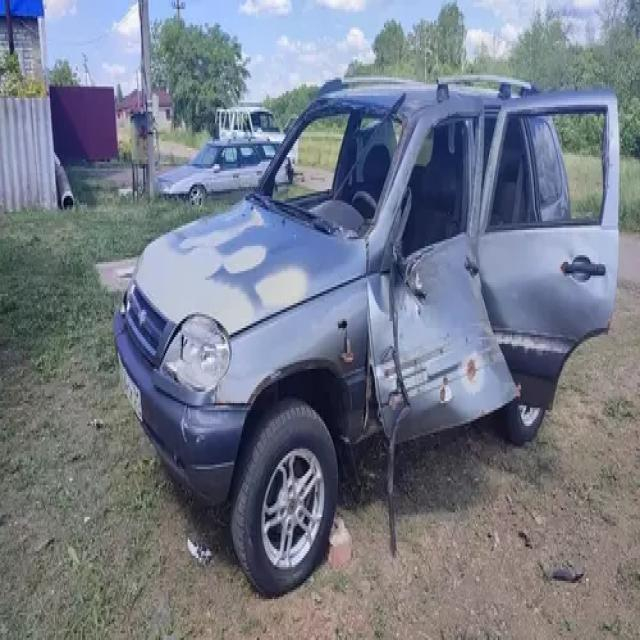car: (111, 70, 620, 596), (153, 124, 290, 201), (216, 101, 298, 161)
